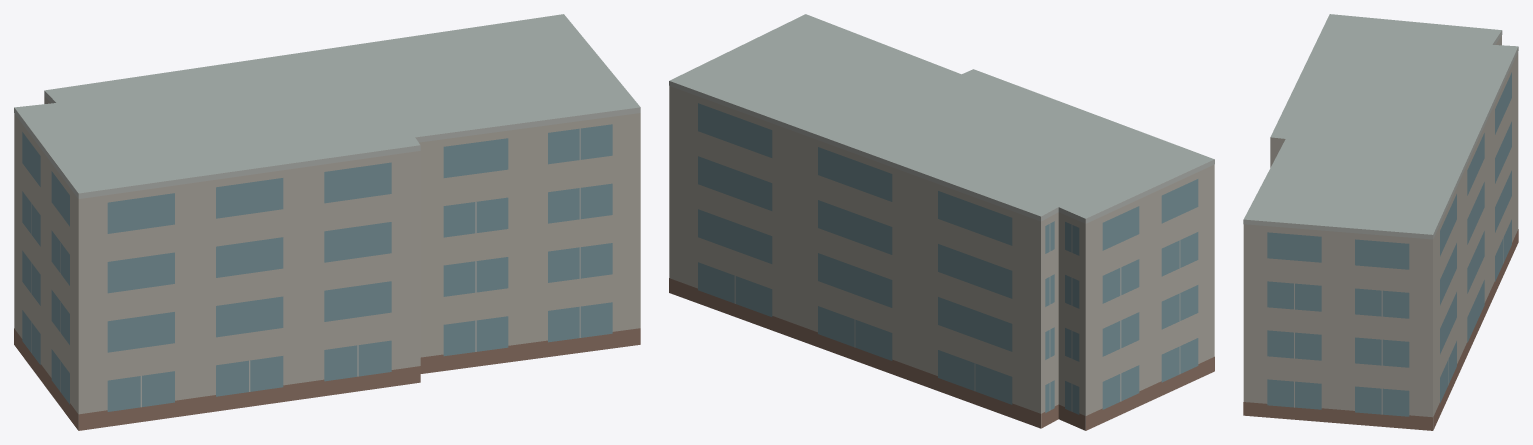
The model's file is survey-upis-32604913.glb.
3 renders of one model, left to right at view 1: azimuth 30°, elevation 25°; view 2: azimuth 150°, elevation 25°; view 3: azimuth 270°, elevation 25°, orthographic. The views are drawn at different scales.
Visible parts, largest first — view 1: survey-upis-32604913.tmp; view 2: survey-upis-32604913.tmp; view 3: survey-upis-32604913.tmp.
Boxes of the visible parts, x1,y1,x2,y2 form: survey-upis-32604913.tmp: [14, 14, 640, 430]; survey-upis-32604913.tmp: [669, 14, 1214, 430]; survey-upis-32604913.tmp: [1243, 14, 1518, 430].
Size of the model in its own units: 24.9 by 10.3 by 13.1.
